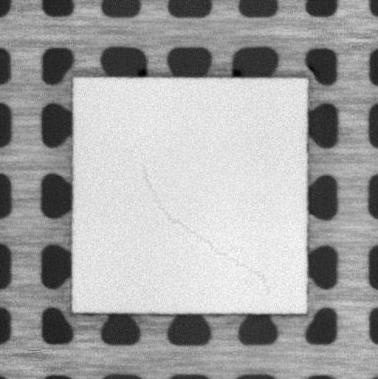DIE_CRACK: (140, 165, 271, 294)
